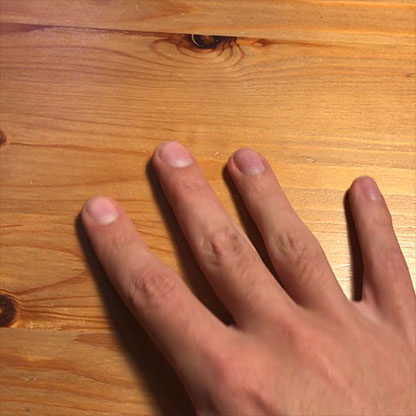fingertip: (224, 133, 274, 183), (149, 131, 198, 178), (76, 192, 129, 230), (350, 170, 392, 209)
